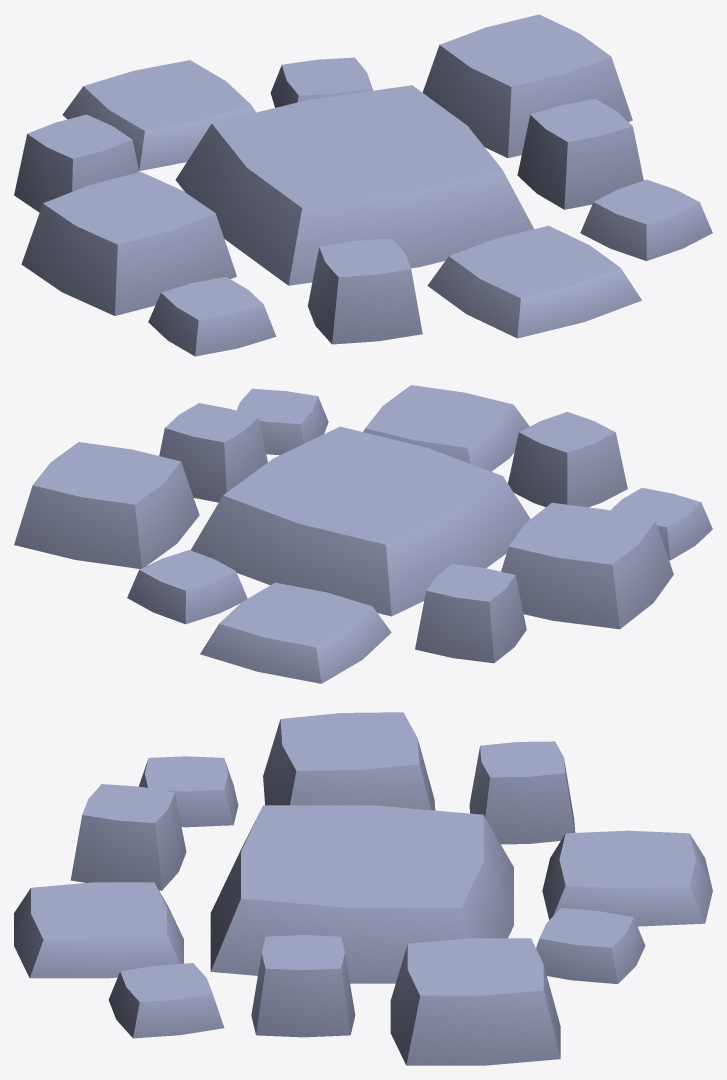
File: road_lev2.glb
3 renders of one model, top to bottom at view 1: azimuth 30°, elevation 25°; view 2: azimuth 150°, elevation 25°; view 3: azimuth 270°, elevation 25°, orthographic. The views are drawn at different scales.
Parts seen in each view (by area): view 1: road_lev2; view 2: road_lev2; view 3: road_lev2.
Boxes of the visible parts, x1,y1,x2,y2 form: road_lev2: (14, 14, 712, 356); road_lev2: (14, 385, 712, 683); road_lev2: (14, 712, 712, 1065).
Size of the model in its own units: 0.7971 by 0.0783 by 0.7898.
Materials: 1 (1 with a texture image).
